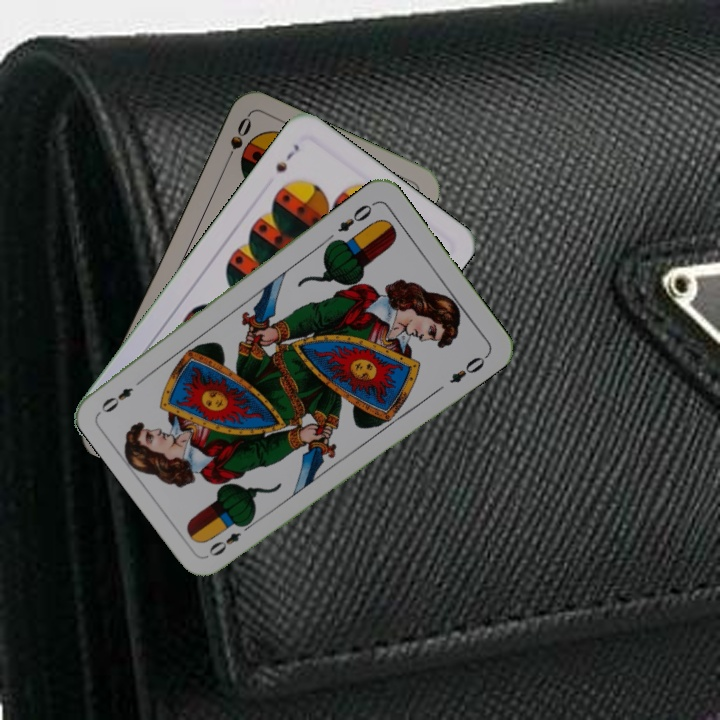EO: (204, 517, 256, 559), (333, 198, 378, 235)
S7: (271, 140, 302, 175)
SO: (221, 112, 254, 169)
